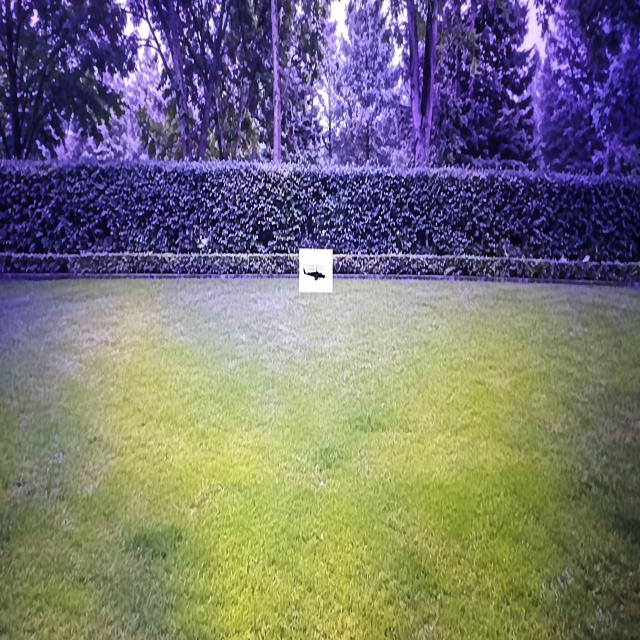Ka-52 Enemy: (303, 265, 325, 280)
